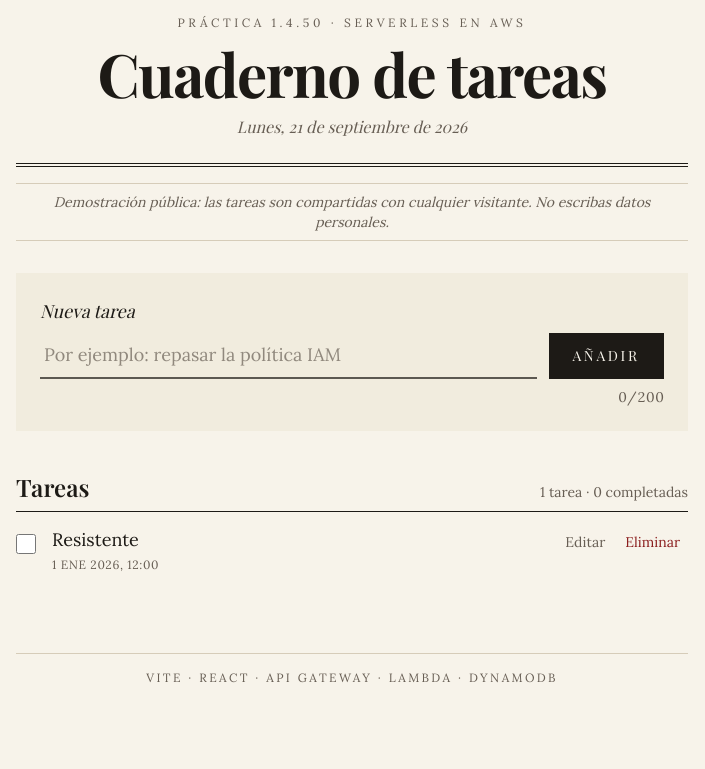
it: eliminación › muestra el error y conserva la tarea si falla el borrado
Click the button with aria-label "Eliminar «Resistente»": click(653, 542) [617,528,688,556]
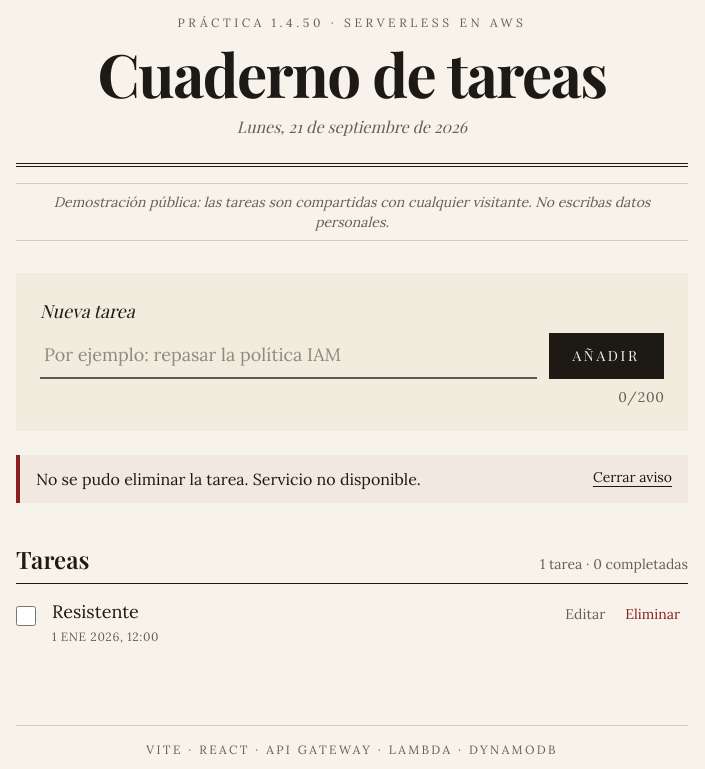
expect the checkbox labelled "Resistente" is enabled: met, box [16,606,36,626]
expect the message shows "No se pudo eliminar la tarea. Servicio no disponible.": met, box [36,469,421,489]
